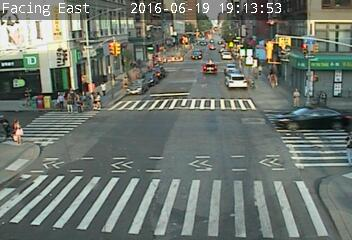neg: (197, 100, 218, 128), (233, 127, 253, 153), (147, 168, 167, 193), (295, 195, 314, 221), (143, 12, 162, 37), (199, 9, 217, 34), (102, 137, 120, 161), (85, 10, 103, 34), (280, 138, 296, 159), (79, 152, 95, 173), (61, 184, 77, 205), (191, 71, 207, 92), (303, 146, 319, 167), (177, 139, 193, 160), (123, 98, 139, 119), (153, 101, 168, 122), (173, 52, 188, 72), (249, 195, 264, 215), (50, 26, 64, 46), (118, 17, 131, 35), (180, 14, 193, 32), (27, 166, 40, 183), (49, 129, 61, 146), (330, 11, 342, 28), (199, 171, 211, 187), (28, 48, 39, 63), (305, 31, 316, 45), (262, 28, 272, 41), (230, 63, 239, 76)
pos: (9, 115, 31, 144), (337, 132, 351, 164), (290, 85, 307, 108), (51, 90, 66, 110), (61, 93, 76, 112), (267, 70, 281, 88), (72, 93, 85, 110), (98, 79, 109, 94)
